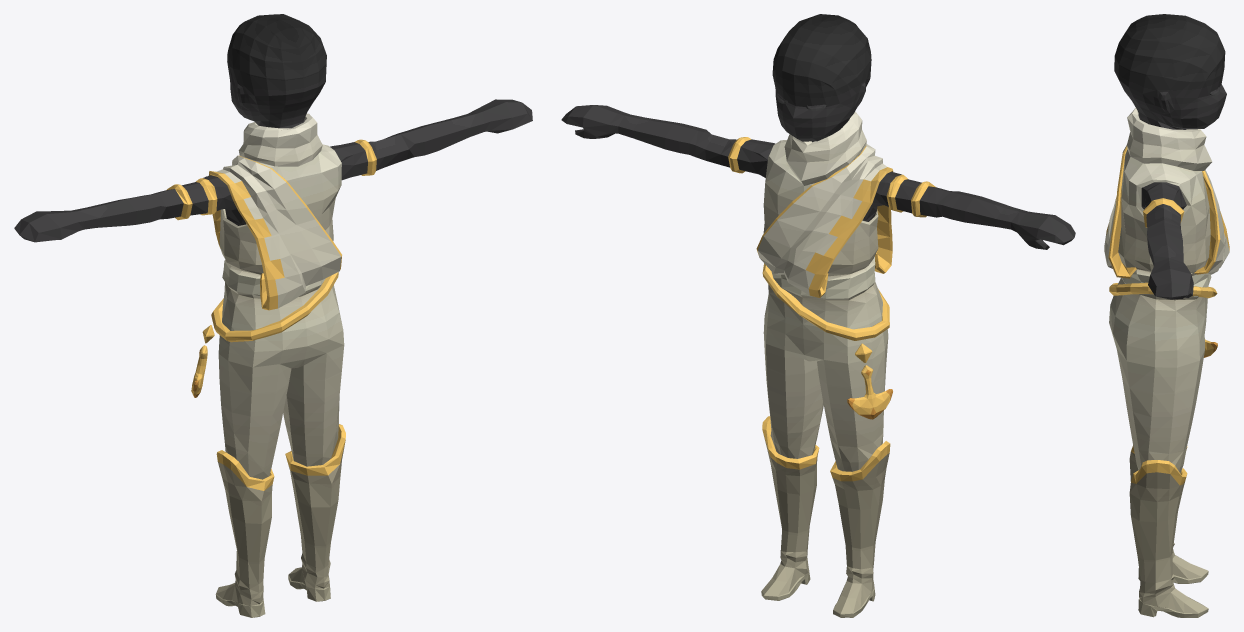
Rendered from CharSkyKid_Body_AP28MantaWhisperer.glb.
3 renders of one model, left to right at view 1: azimuth 30°, elevation 25°; view 2: azimuth 150°, elevation 25°; view 3: azimuth 270°, elevation 25°, orthographic.
Parts seen in each view (by area): view 1: CharSkyKid_Body_AP28MantaWhisperer; view 2: CharSkyKid_Body_AP28MantaWhisperer; view 3: CharSkyKid_Body_AP28MantaWhisperer.
Boxes of the visible parts, box(x1,y1,x2,y2) form: CharSkyKid_Body_AP28MantaWhisperer: box(14, 14, 532, 617); CharSkyKid_Body_AP28MantaWhisperer: box(561, 14, 1075, 617); CharSkyKid_Body_AP28MantaWhisperer: box(1104, 14, 1229, 617).
Size of the model in its own units: 13.83 by 14.93 by 2.94.
1 material, 1 textured.
